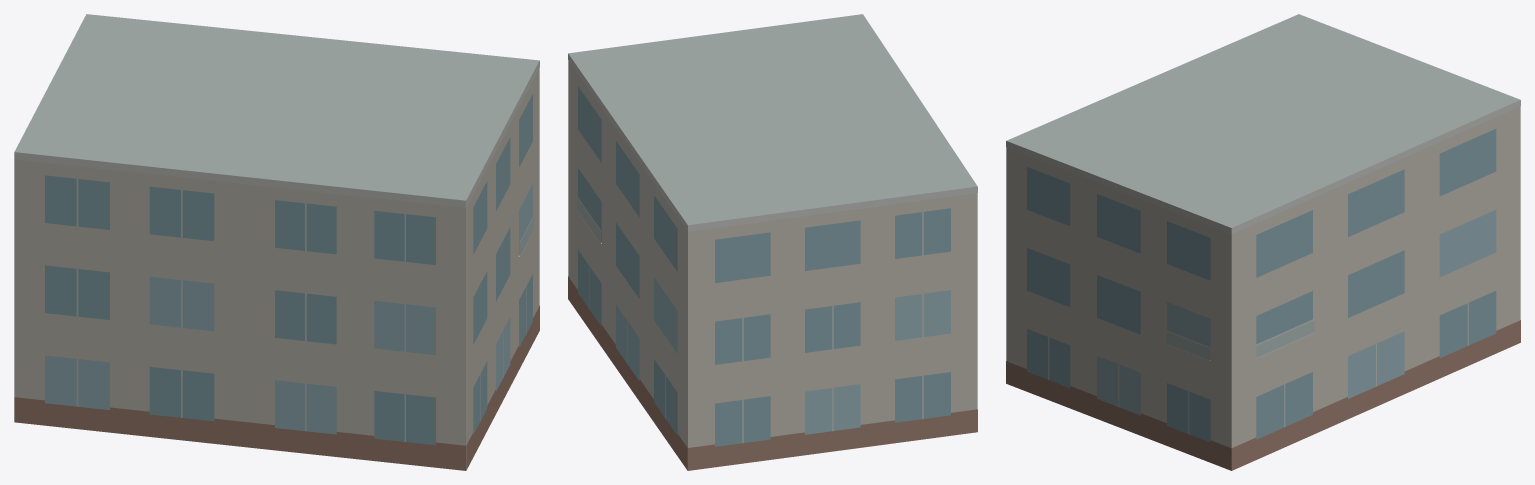
Rendered from survey-upis-32722079.glb.
3 views of the same model, side by side, from view 1: azimuth 30°, elevation 25°; view 2: azimuth 150°, elevation 25°; view 3: azimuth 270°, elevation 25° (orthographic). The views are drawn at different scales.
Visible parts, largest first — view 1: survey-upis-32722079.tmp; view 2: survey-upis-32722079.tmp; view 3: survey-upis-32722079.tmp.
Boxes of the visible parts, x1,y1,x2,y2 form: survey-upis-32722079.tmp: (14,14,539,470); survey-upis-32722079.tmp: (568,14,977,470); survey-upis-32722079.tmp: (1006,14,1520,470).
Bounding box in the file's own units: 17.3 × 9.15 × 17.58.
